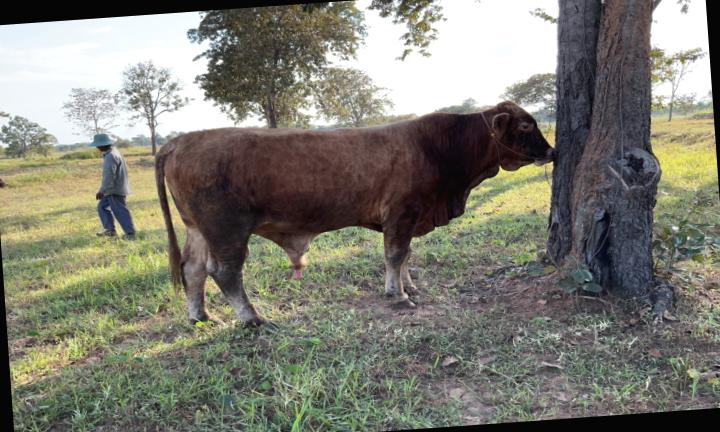Charolais: (156, 101, 555, 324)
